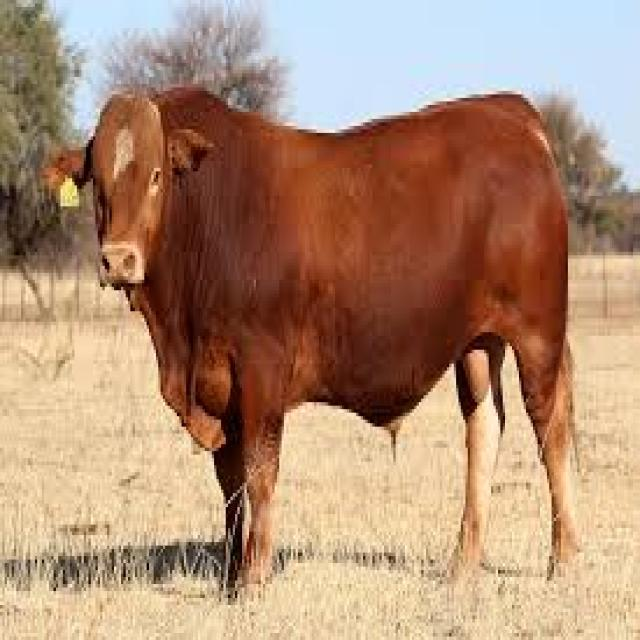cowFace: (42, 38, 216, 312)
